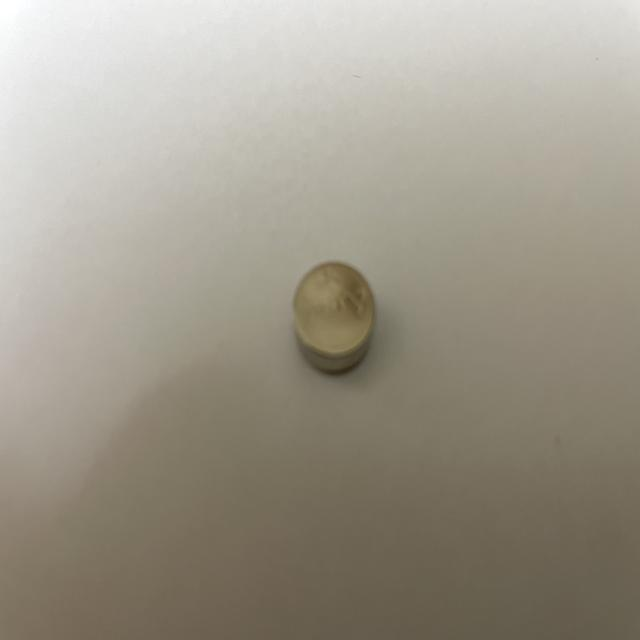COIN: (292, 260, 378, 375)
